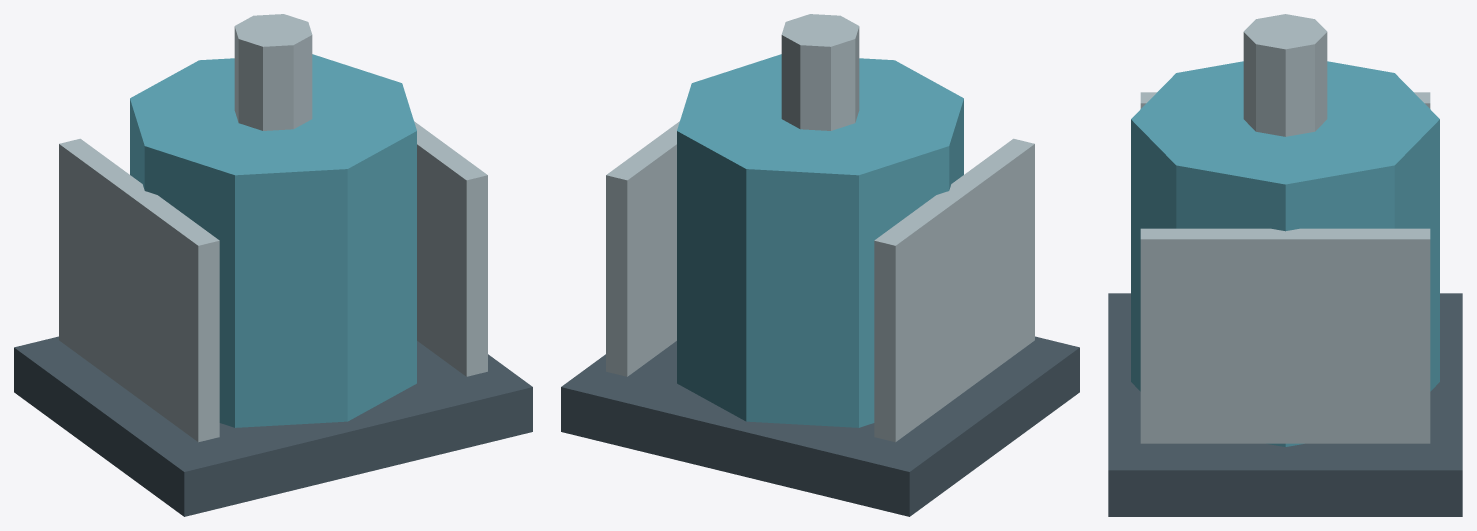
Rendered from electric-motor-assembly.glb.
3 views of the same model, side by side, from view 1: azimuth 30°, elevation 25°; view 2: azimuth 150°, elevation 25°; view 3: azimuth 270°, elevation 25° (orthographic). The views are drawn at different scales.
Visible parts, largest first — view 1: blue, steel, dark; view 2: blue, steel, dark; view 3: steel, blue, dark.
Boxes of the visible parts, x1,y1,x2,y2 form: blue: (130,54,416,427); steel: (59,14,487,442); dark: (14,336,532,516); blue: (677,54,963,427); steel: (606,14,1034,442); dark: (561,336,1079,516); steel: (1140,14,1430,443); blue: (1131,61,1439,446); dark: (1108,293,1462,516).
Size of the model in its own units: 0.65 by 0.68 by 0.55.
